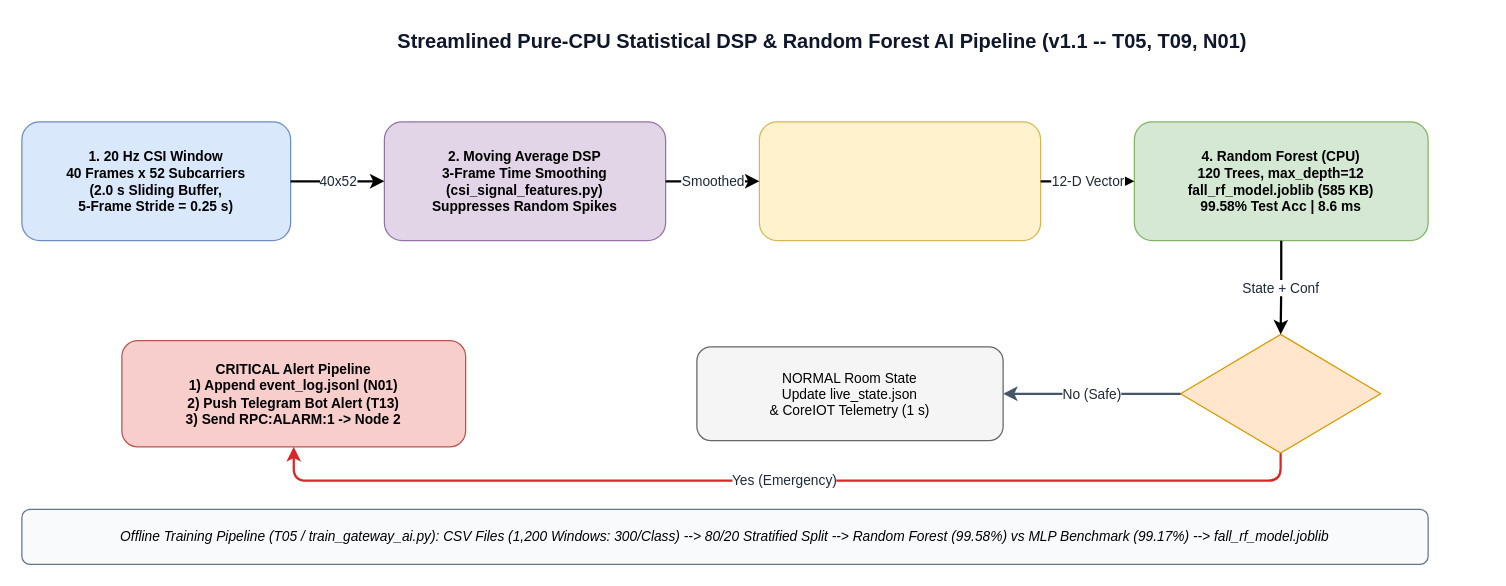
Image size: 1506x586. Some labels were removed from this diagram. Here are the shapes that lost their labels. From the top down, the centre of each, then its label:
the point at 899,181: 3. 12 Basic Features Std, Max-Min, Delta Max, Post-Peak Std, Peak-to-Tail Ratio
the point at 1280,393: FALL (>= 0.80) or SOS?
